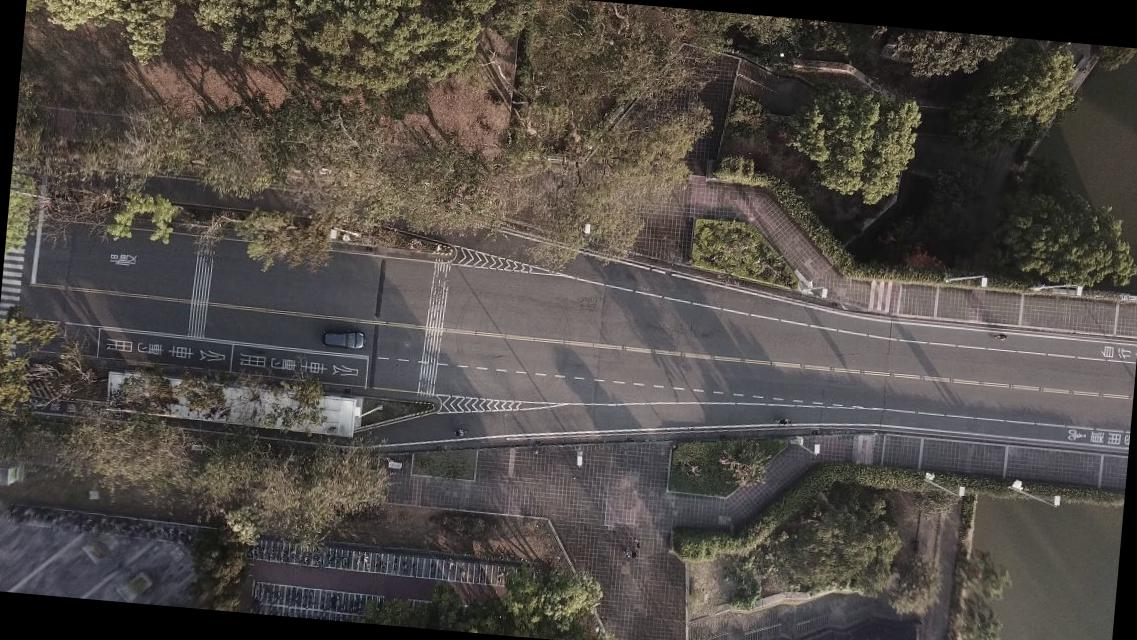vehicle: (322, 328, 366, 352)
